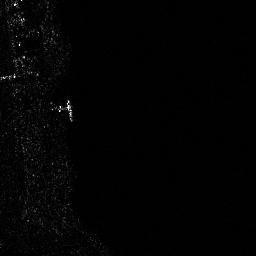ship: (64, 99, 74, 122)
